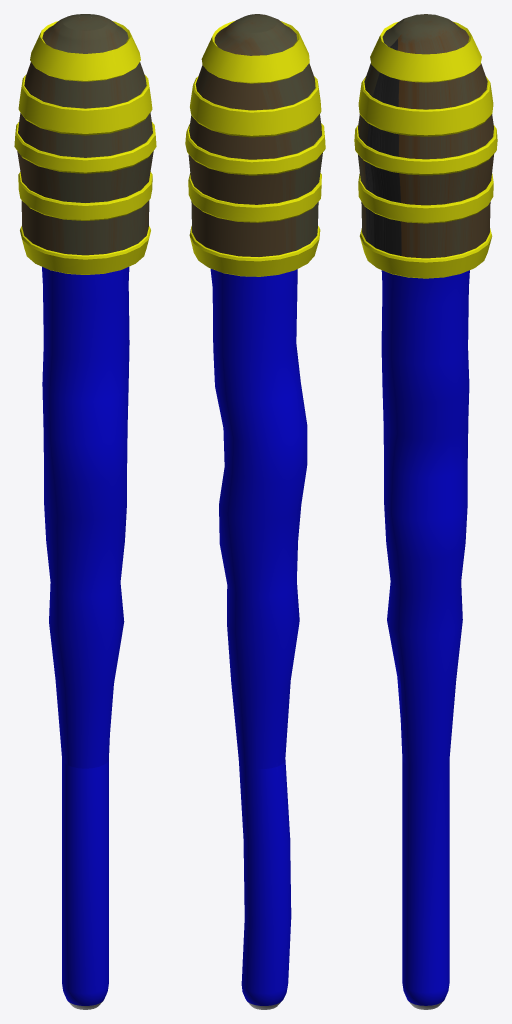
The model's file is torch.fbx.
3 views of the same model, side by side, from view 1: azimuth 90°, elevation 25°; view 2: azimuth 150°, elevation 25°; view 3: azimuth 270°, elevation 25° (orthographic).
Visible parts, largest first — view 1: pCylinder6; view 2: pCylinder6; view 3: pCylinder6.
Part boxes in pixels (box(x1,y1,x2,y2)): pCylinder6: box(14, 14, 156, 1009); pCylinder6: box(185, 14, 325, 1009); pCylinder6: box(354, 14, 497, 1009).
Size of the model in its own units: 46.88 by 362 by 47.46.
